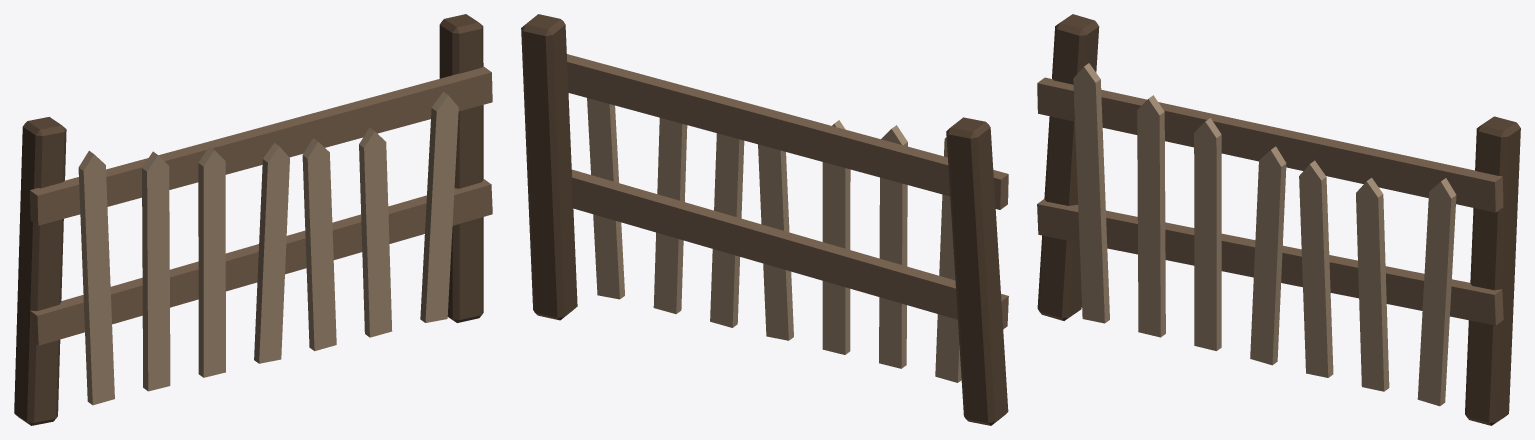
File: fence_section.glb
The picture shows the model from 3 angles, left to right: view 1: azimuth 30°, elevation 25°; view 2: azimuth 150°, elevation 25°; view 3: azimuth 330°, elevation 25°; orthographic projection.
Visible parts, largest first — view 1: fence_section; view 2: fence_section; view 3: fence_section.
Part boxes in pixels (bbox=[...]): fence_section: bbox=[14, 14, 492, 425]; fence_section: bbox=[521, 14, 1008, 425]; fence_section: bbox=[1037, 14, 1520, 425].
Bounding box in the file's own units: 2.08 × 1.26 × 0.2436.
1 material, 1 textured.
